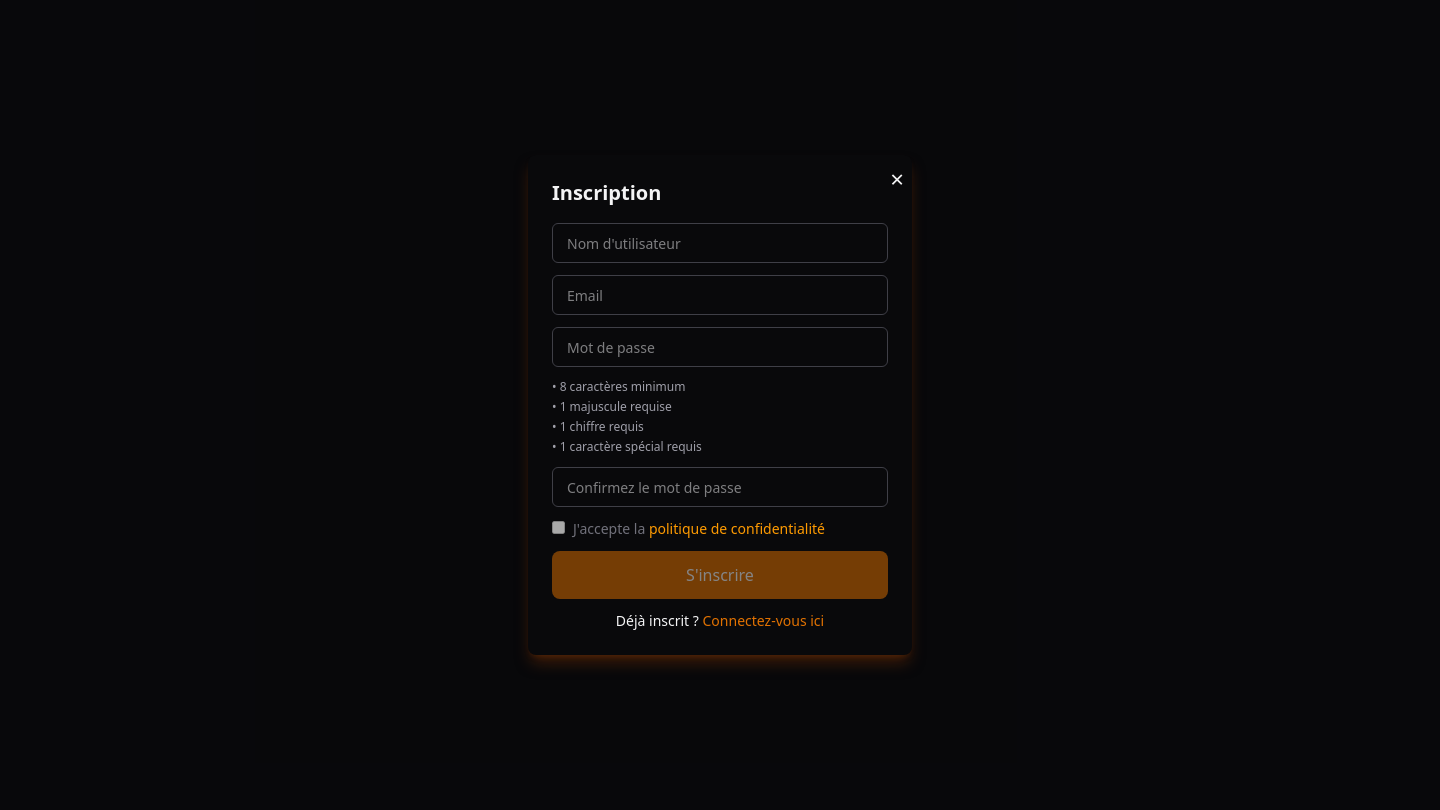
Test: RegisterPage › shows error when passwords do not match
Type "TestUser" into the field with placeholder "Nom d'utilisateur". click: point(720, 243)
box: [552,223,888,263]
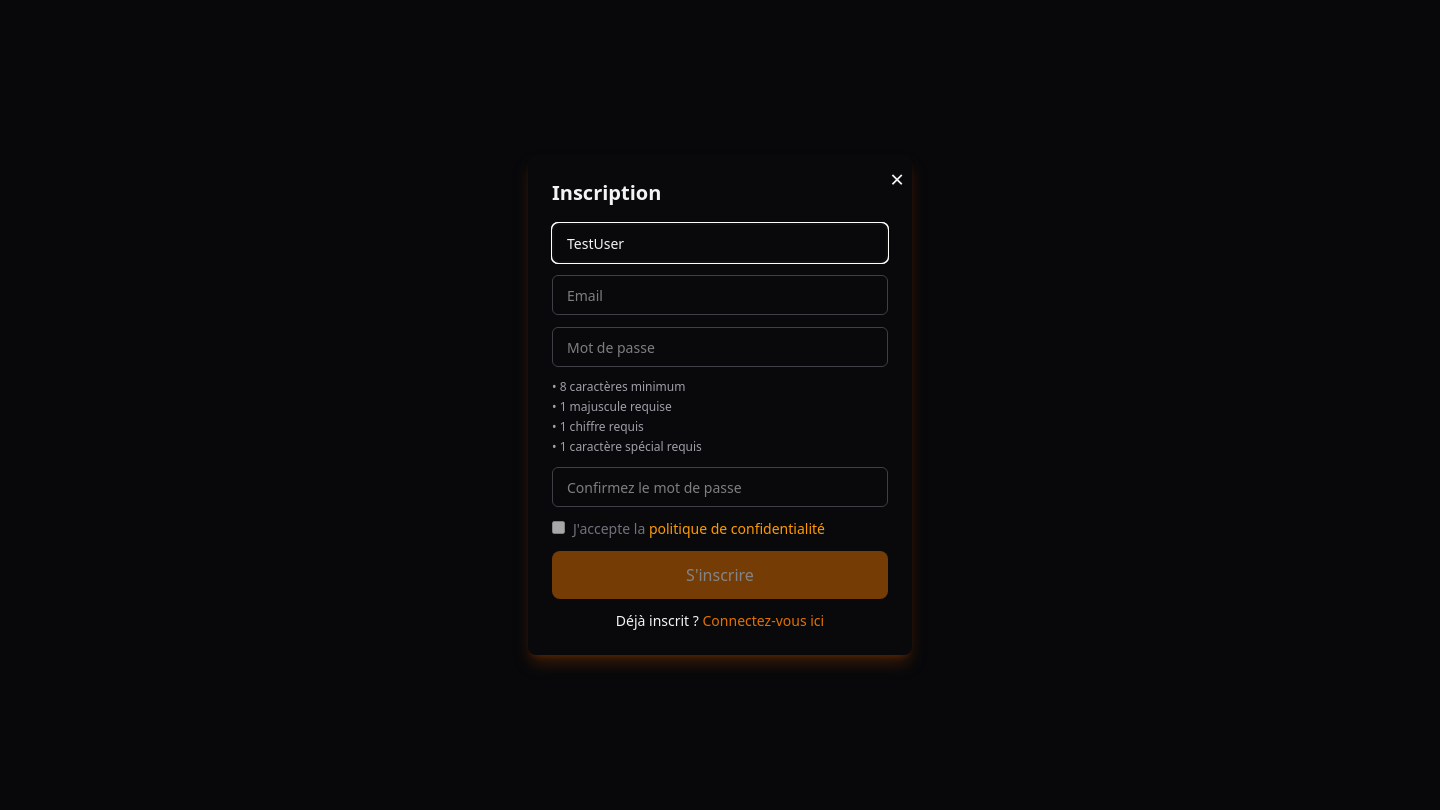
Type "test@example.com" into the field with placeholder "Email". click: point(720, 295)
box: [552,275,888,315]
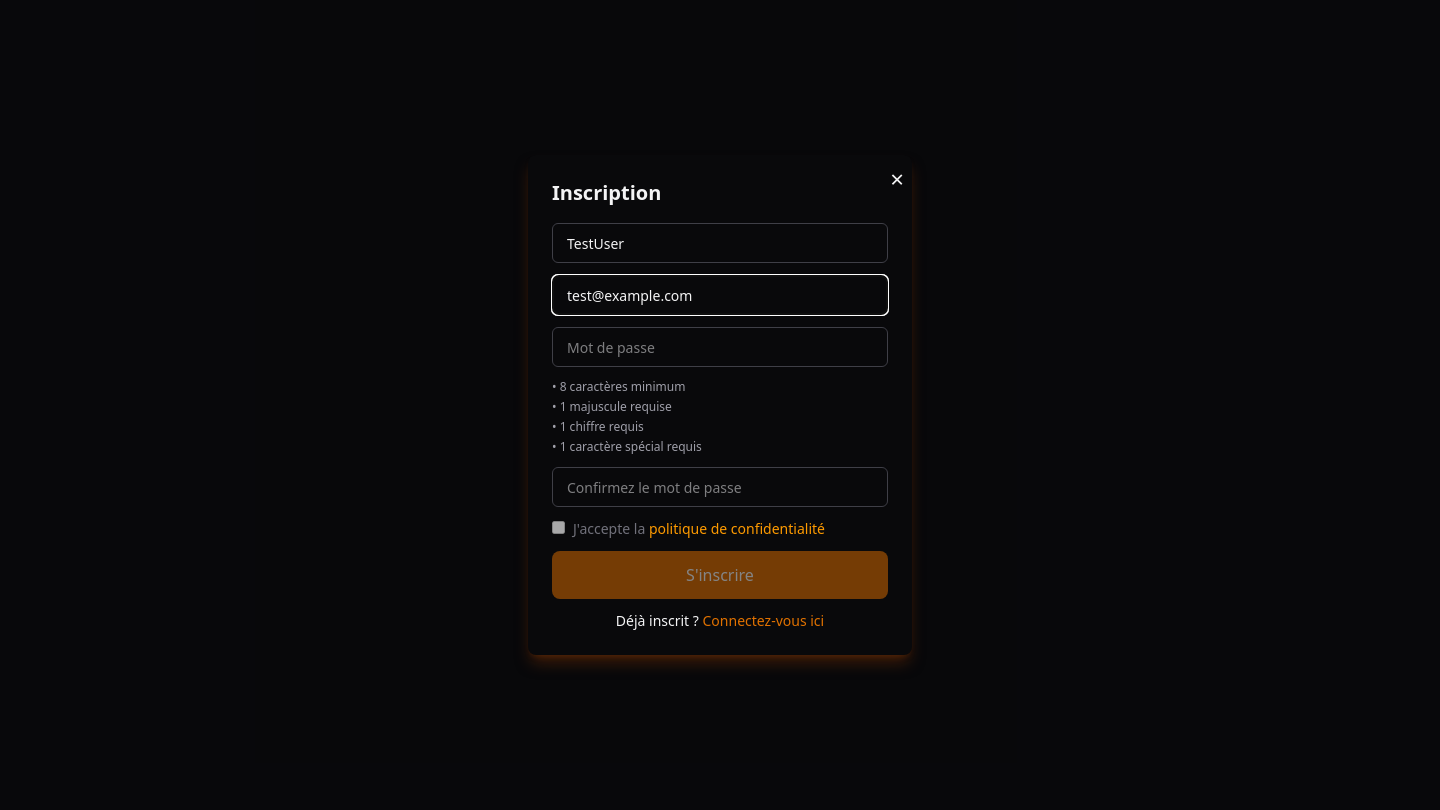
Type "Password1!" into the password field with placeholder "Mot de passe". click: point(720, 347)
box: [552,327,888,367]
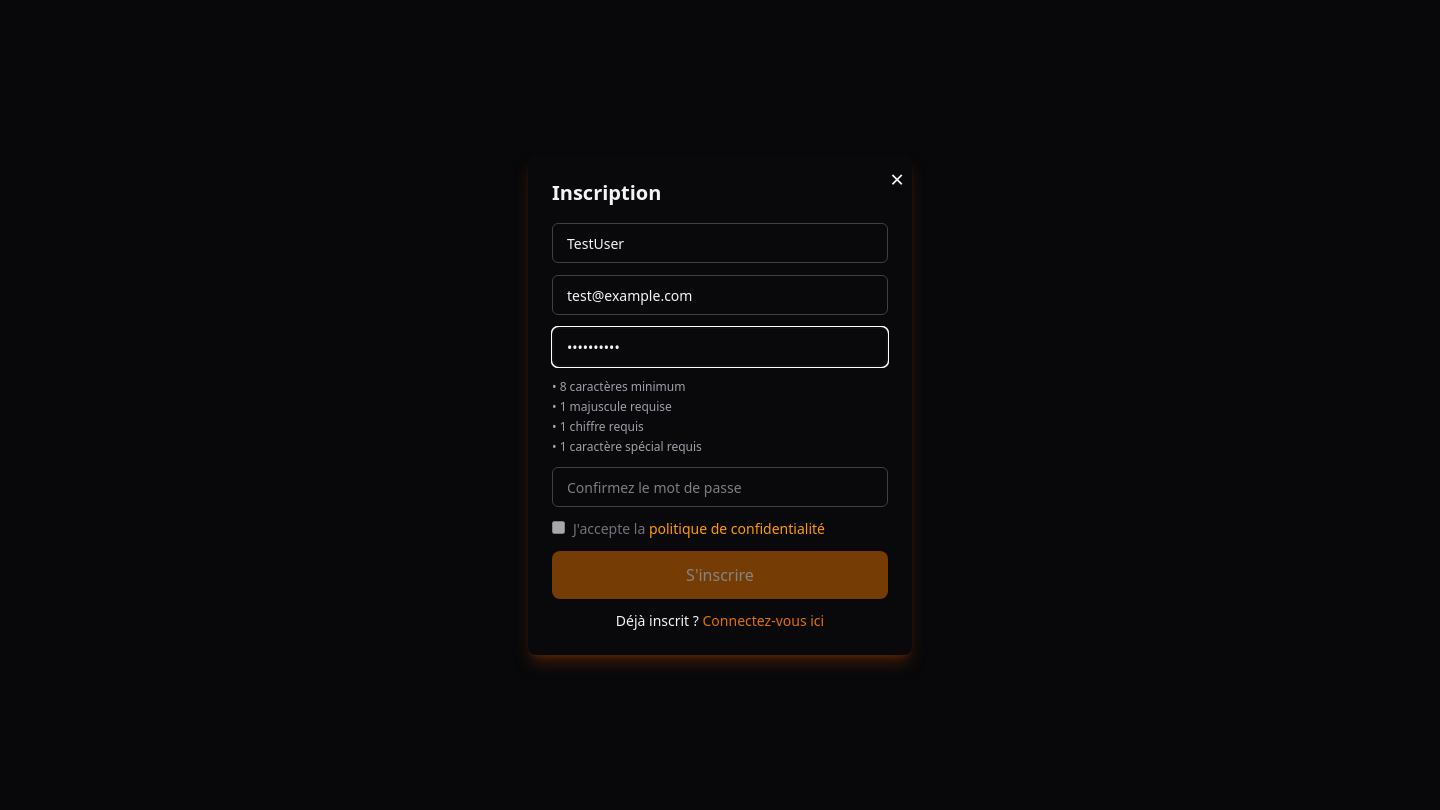
Type "autre" into the password field with placeholder "Confirmez le mot de passe". click: point(720, 487)
box: [552,467,888,507]
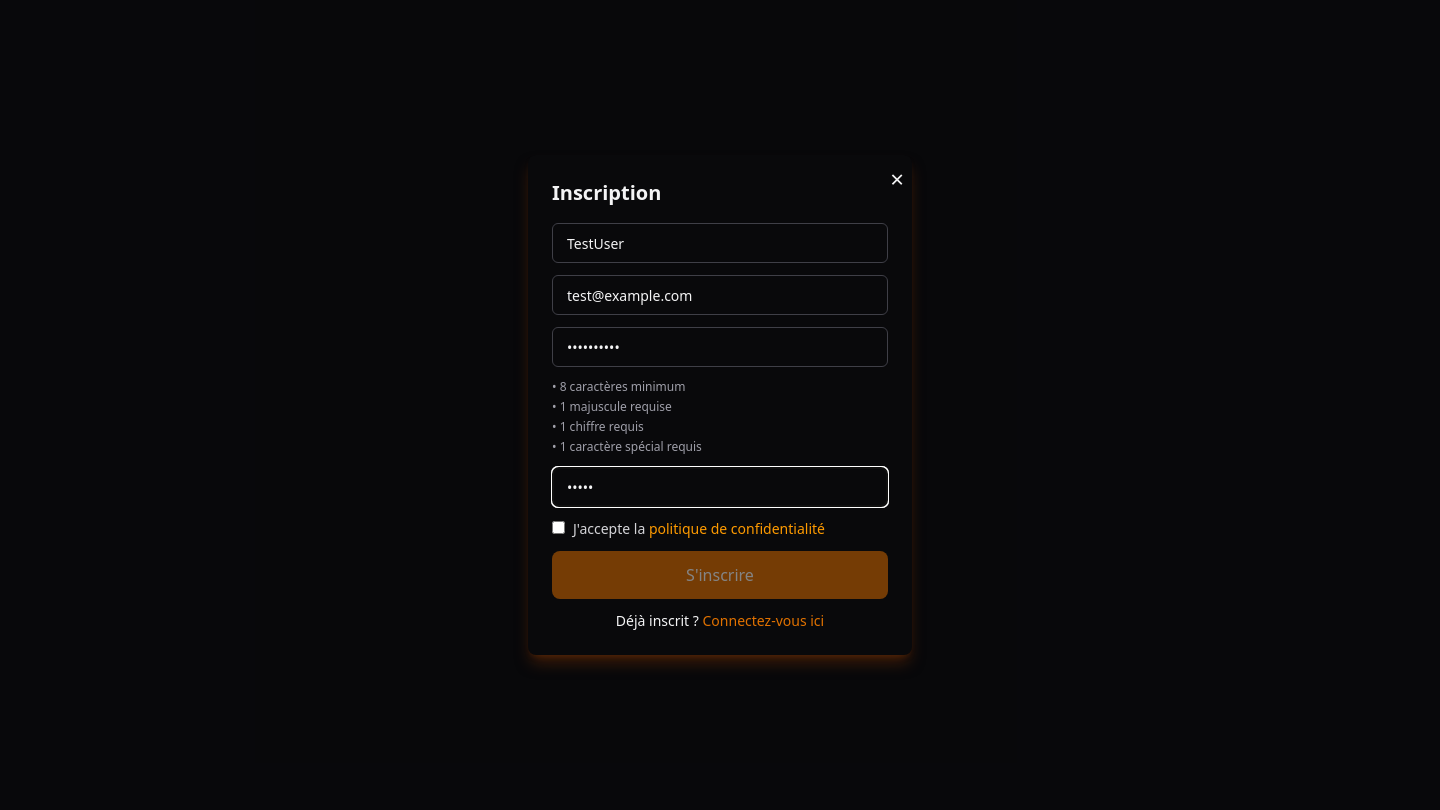
Click the checkbox. click: point(558, 528)
box: [552,521,565,534]
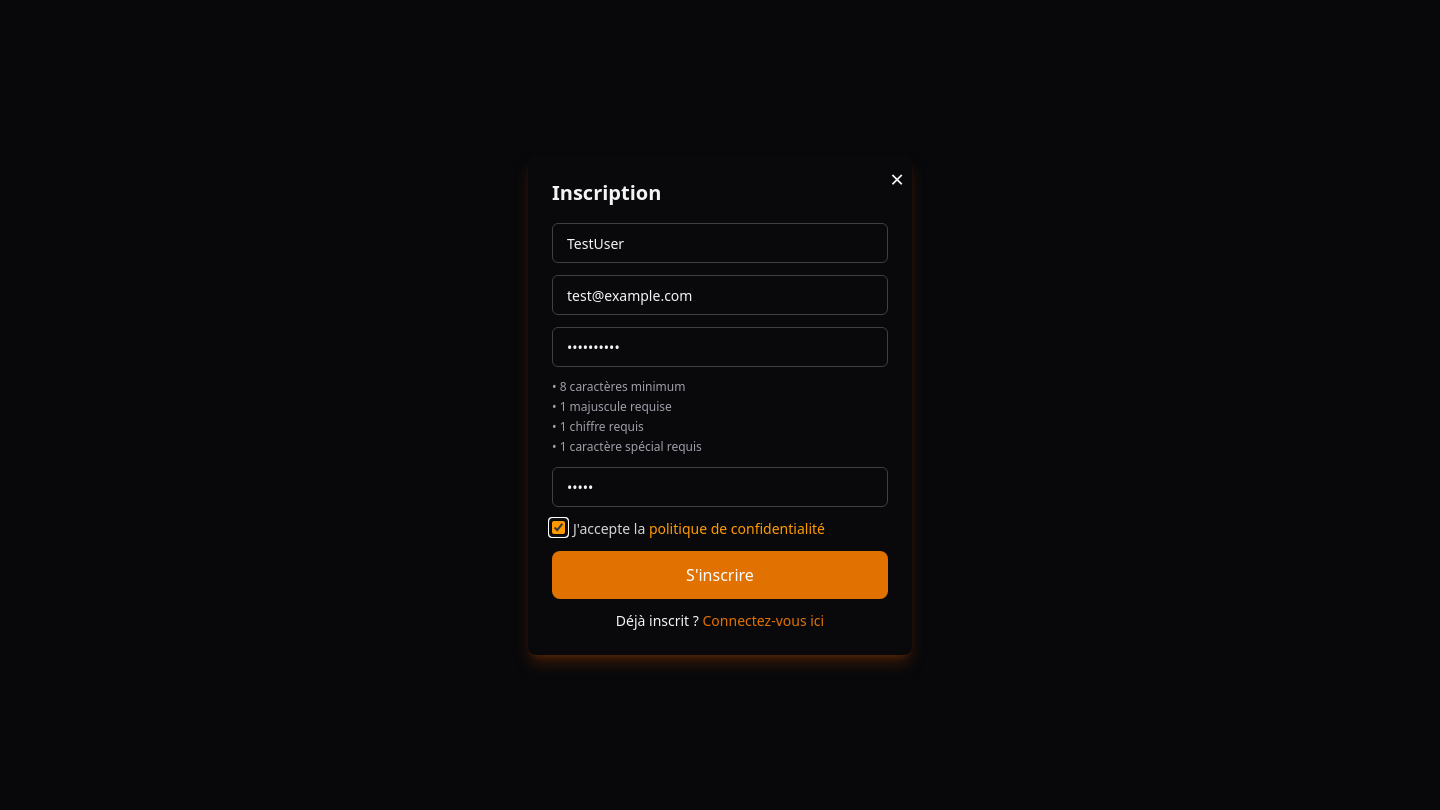
Click the button "S'inscrire". click: point(720, 575)
box: [552,551,888,599]
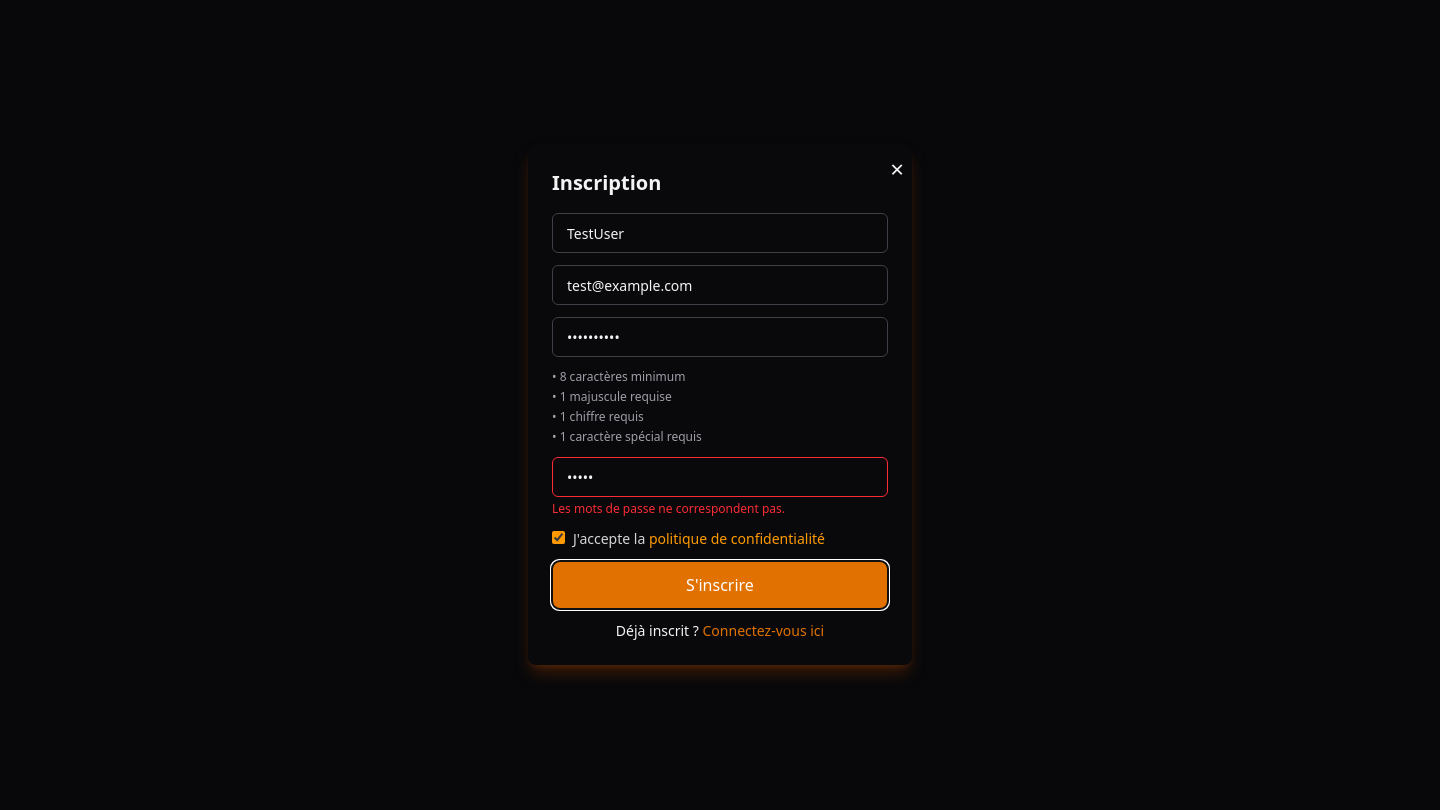
Expected: the text "Les mots de passe ne correspondent pas." is shown, [552,500,785,517]
